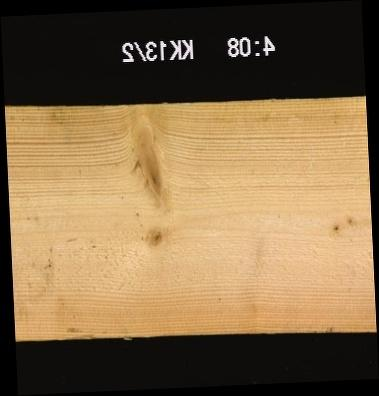small_knot: (346, 215, 355, 225), (331, 222, 340, 232)
sound_knot: (144, 224, 166, 248)
